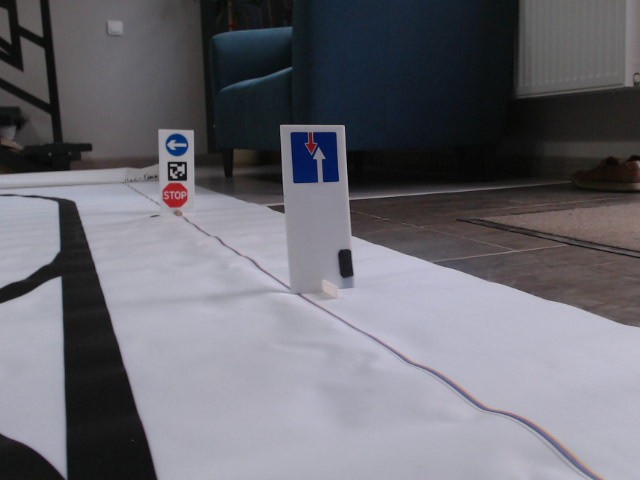Stop: (160, 181, 188, 208)
priority_movement: (289, 130, 340, 185)
